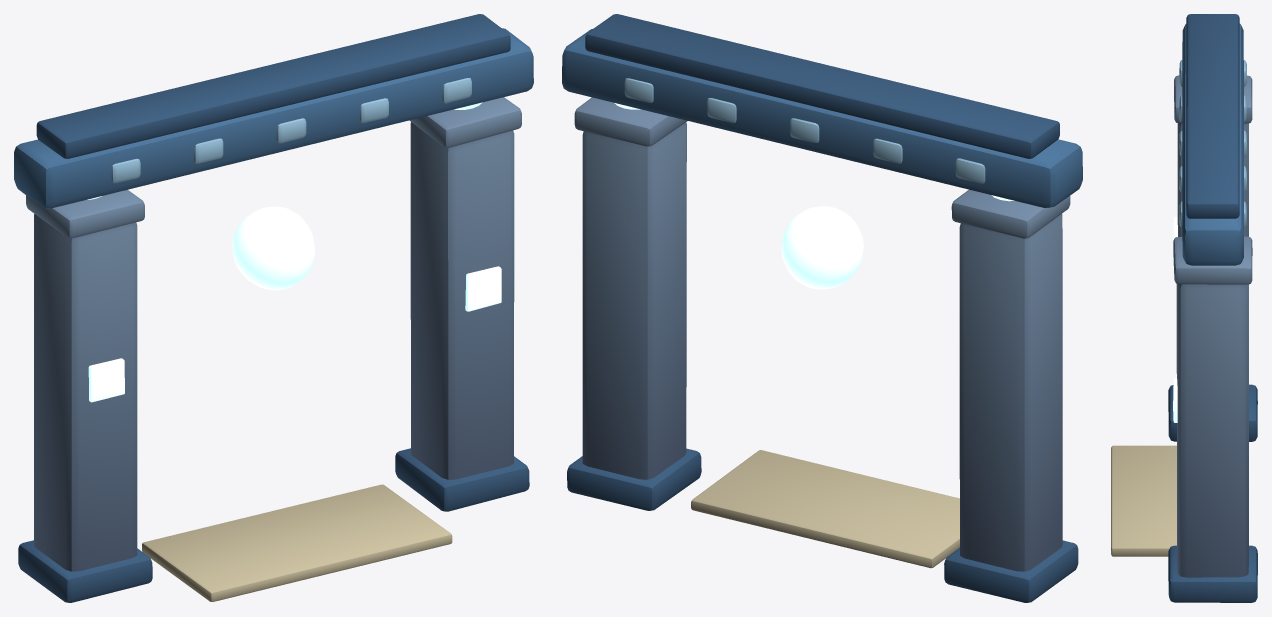
The picture shows the model from 3 angles, left to right: view 1: azimuth 30°, elevation 25°; view 2: azimuth 150°, elevation 25°; view 3: azimuth 270°, elevation 25°; orthographic projection. The views are drawn at different scales.
Visible parts, largest first — view 1: gate_d282f666; view 2: gate_d282f666; view 3: gate_d282f666.
Part boxes in pixels (box(x1,y1,x2,y2)): gate_d282f666: box(14, 14, 533, 602); gate_d282f666: box(562, 14, 1082, 602); gate_d282f666: box(1111, 14, 1257, 602).
Size of the model in its own units: 4.89 by 4.31 by 1.44.
